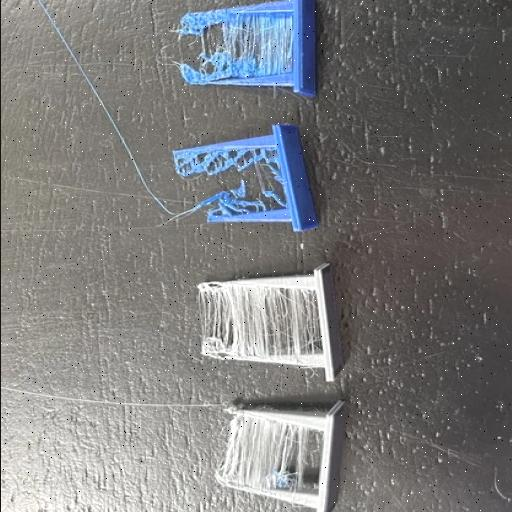stringing: (211, 286, 313, 354), (238, 419, 312, 487), (208, 16, 294, 72), (182, 150, 272, 176)
